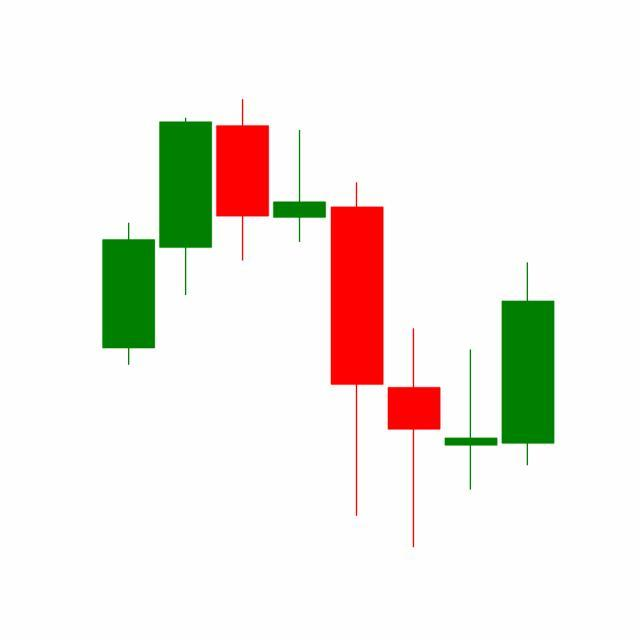Hikkake Pattern: (270, 125, 555, 548)
